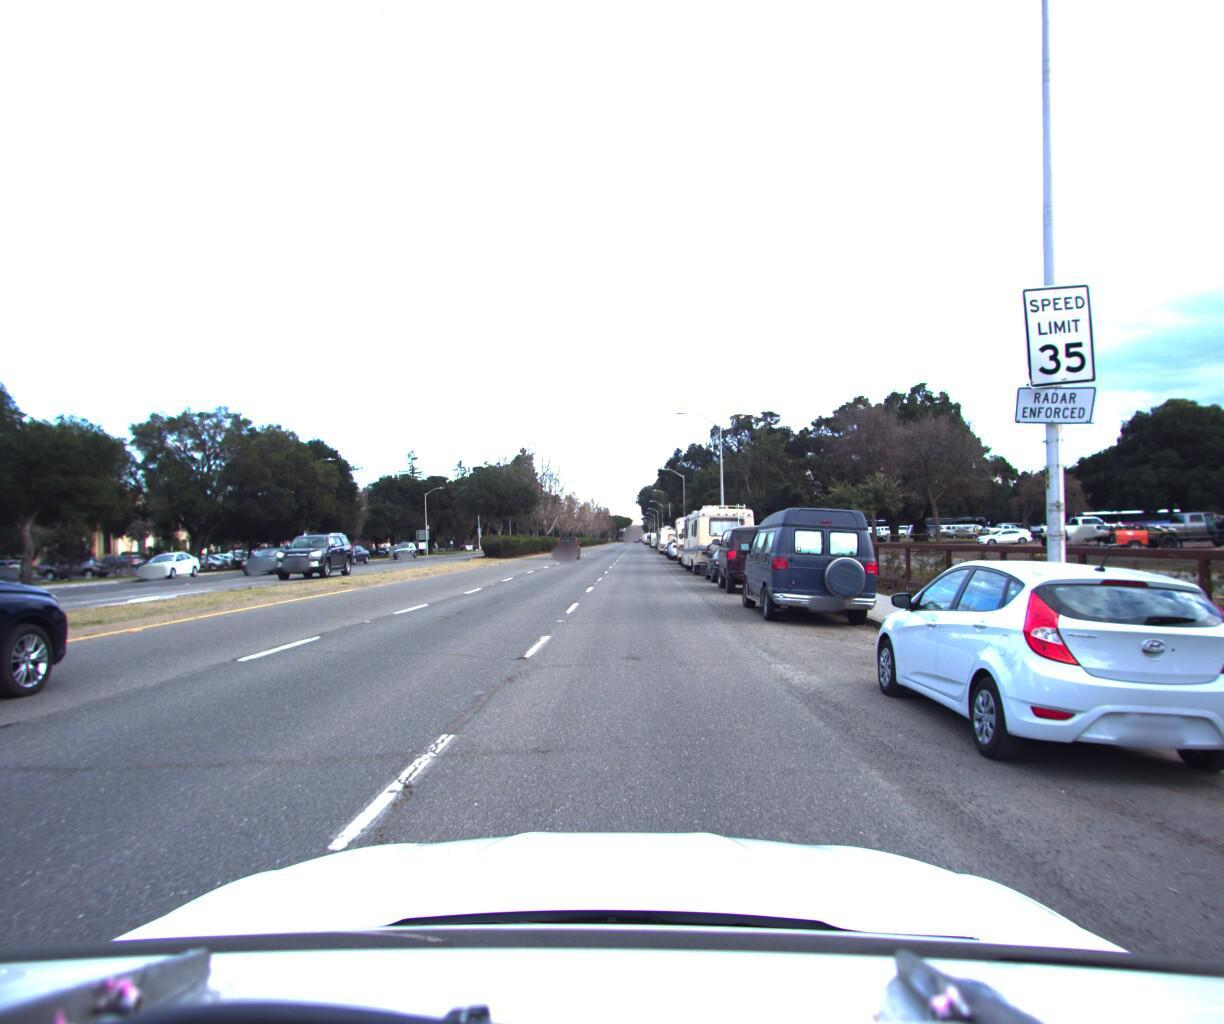car: (856, 542, 1224, 794), (0, 498, 102, 799), (732, 493, 893, 624), (710, 515, 800, 589), (273, 529, 357, 578), (703, 537, 763, 580), (133, 546, 207, 579), (236, 543, 309, 576), (664, 529, 697, 554), (554, 530, 582, 555)
other_vehicle: (678, 494, 766, 573), (673, 508, 721, 560), (654, 520, 684, 548)
